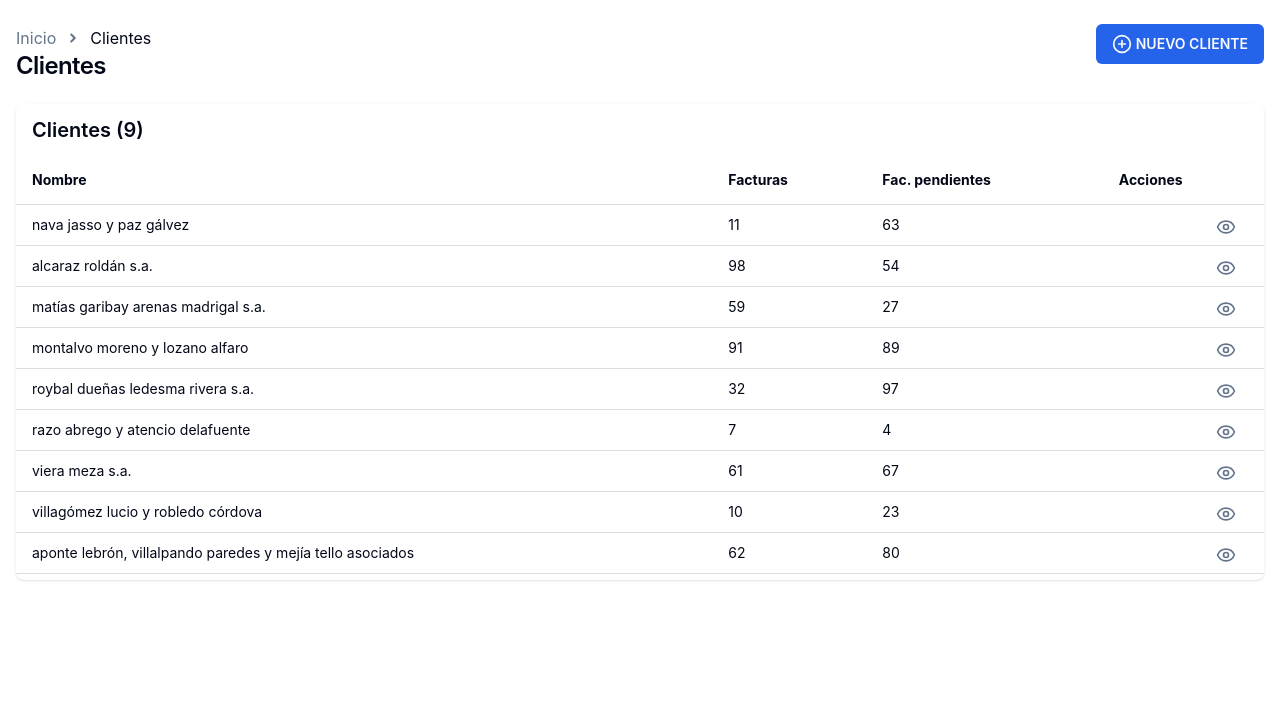
it: Clients › when user click the Nuevo Cliente button should render the modal
Click the button "Nuevo Cliente".
click(1180, 44)  # box [1096,24,1264,64]
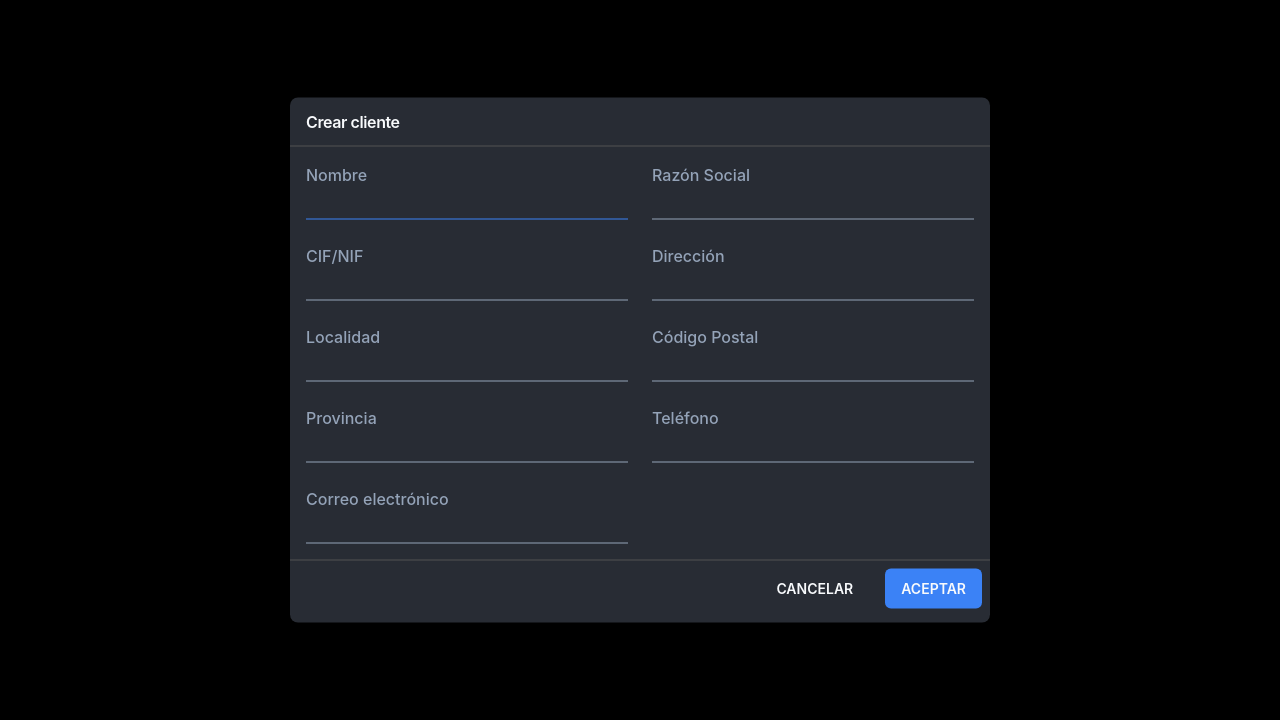
Now the heading "Crear cliente" is shown, box [306,106,400,138]
